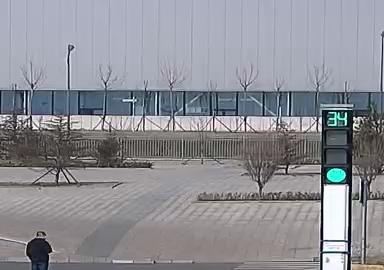green: (321, 166, 349, 182)
greentime: (324, 112, 350, 127)
